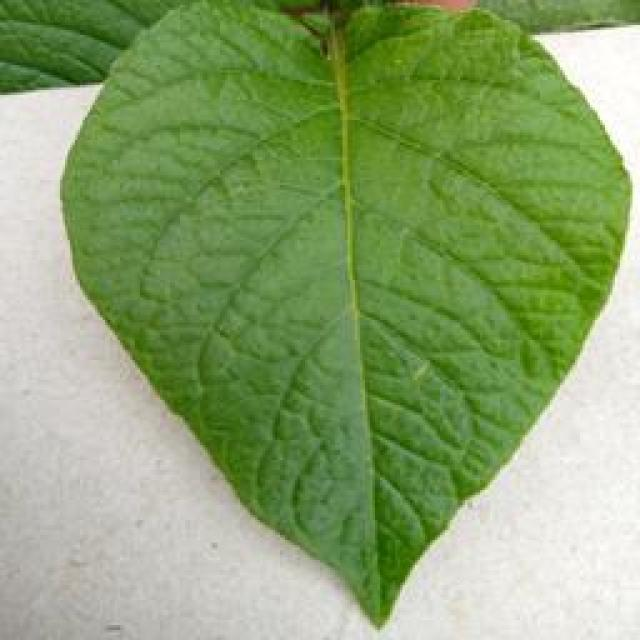healthy: (52, 0, 635, 632)
